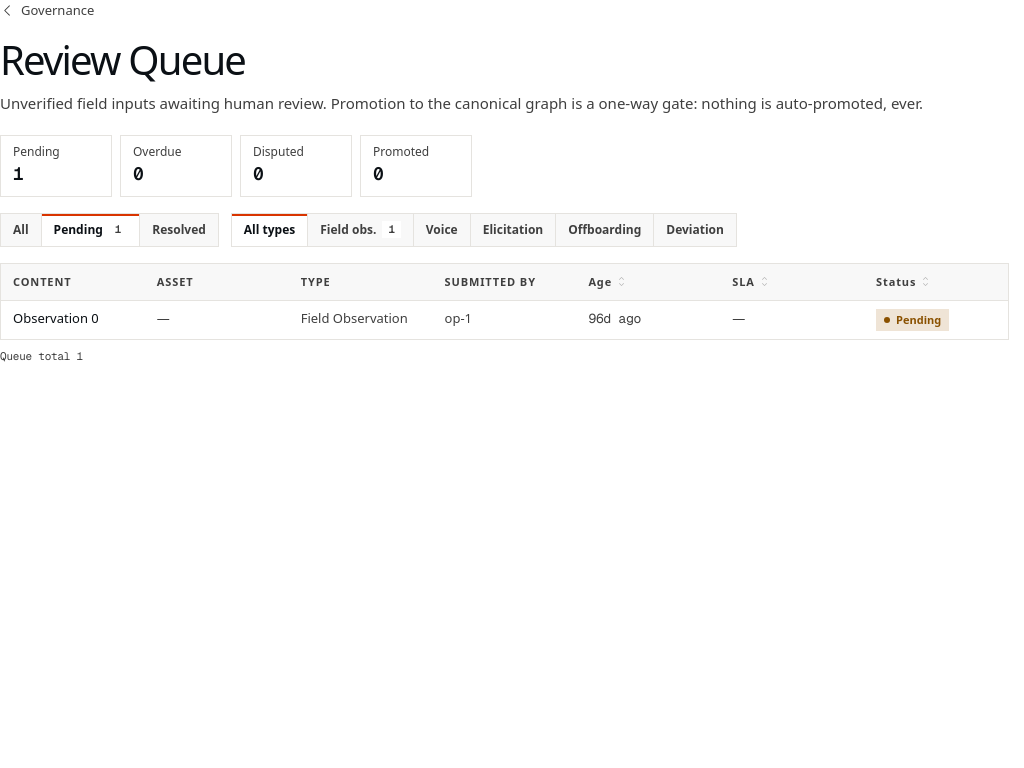
Scenario: QuarantinePage › promotes through the panel as a field observation and refetches
Click the text "Observation 0". click: point(56, 318)
box: [13,309,99,327]
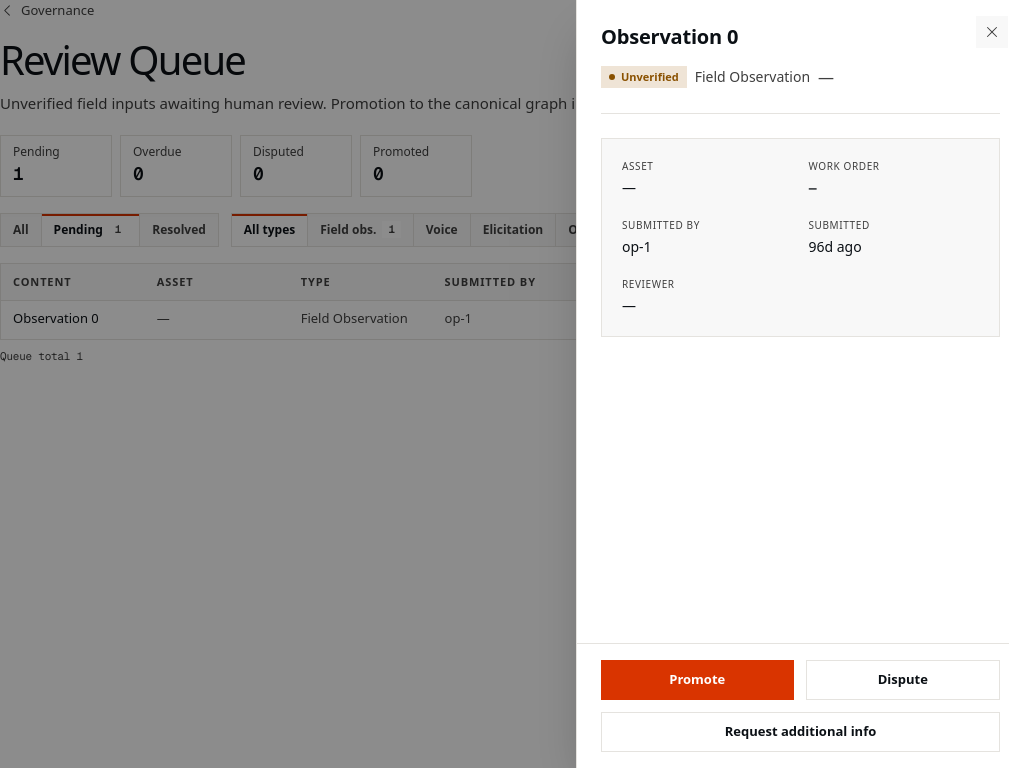
Click the button "Promote". click: point(697, 680)
box: [601,660,794,700]
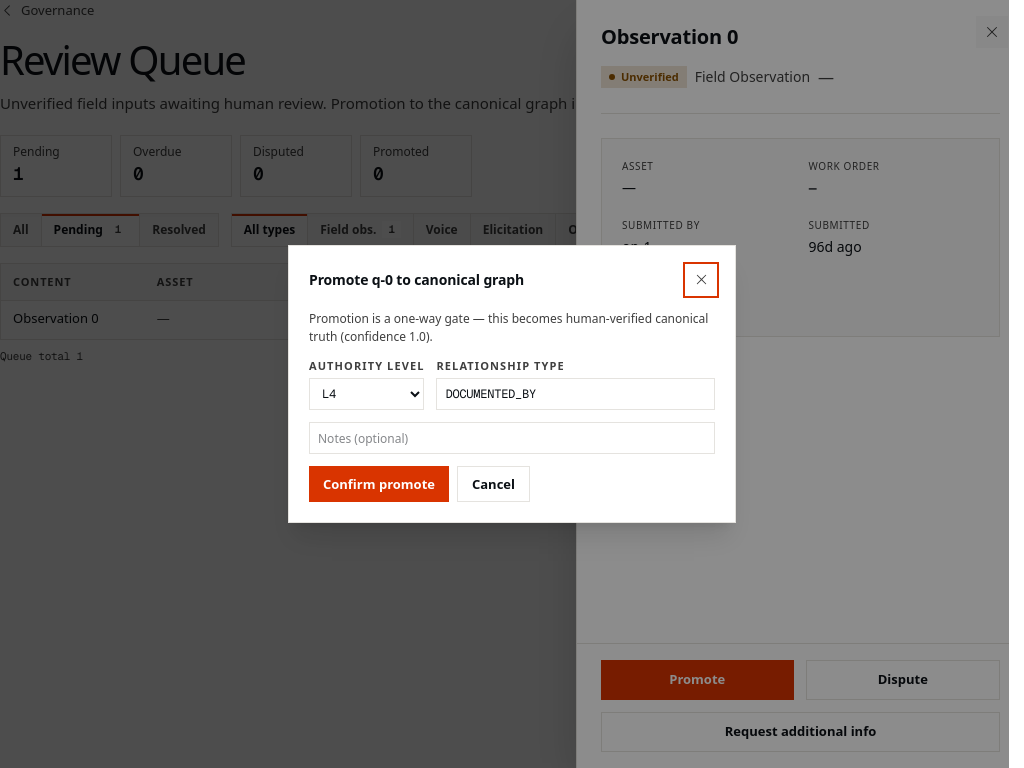
Click the button "Confirm promote". click: point(379, 484)
box: [309,466,449,502]
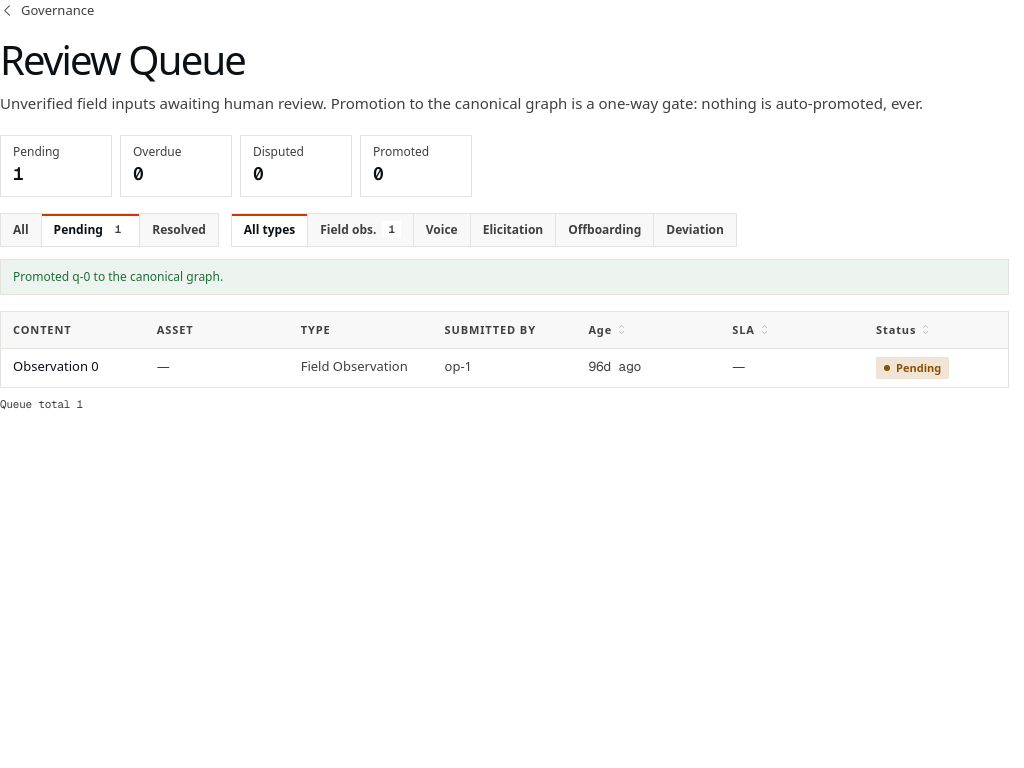
Expected: the text "Promoted q-0 to the canonical graph." is shown, [0,258,1009,294]
Expected: the element with test id "quarantine-panel" is gone
